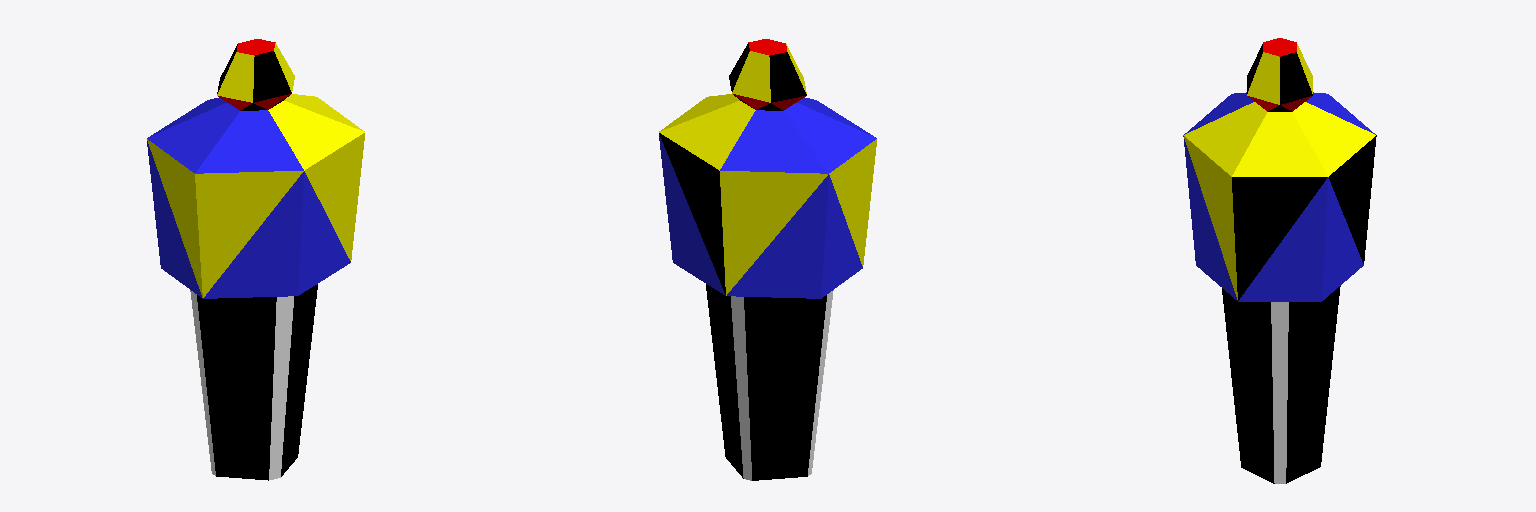
Rendered from robot.obj.
The picture shows the model from 3 angles: view 1: azimuth 30°, elevation 25°; view 2: azimuth 150°, elevation 25°; view 3: azimuth 270°, elevation 25°; orthographic projection.
Parts seen in each view (by area): view 1: Mesh1 Model; view 2: Mesh1 Model; view 3: Mesh1 Model.
Boxes of the visible parts, x1=… form: Mesh1 Model: x1=147, y1=39, x2=364, y2=480; Mesh1 Model: x1=659, y1=39, x2=876, y2=480; Mesh1 Model: x1=1183, y1=38, x2=1376, y2=483.
Size of the model in its own units: 0.6505 by 1.52 by 0.6385.